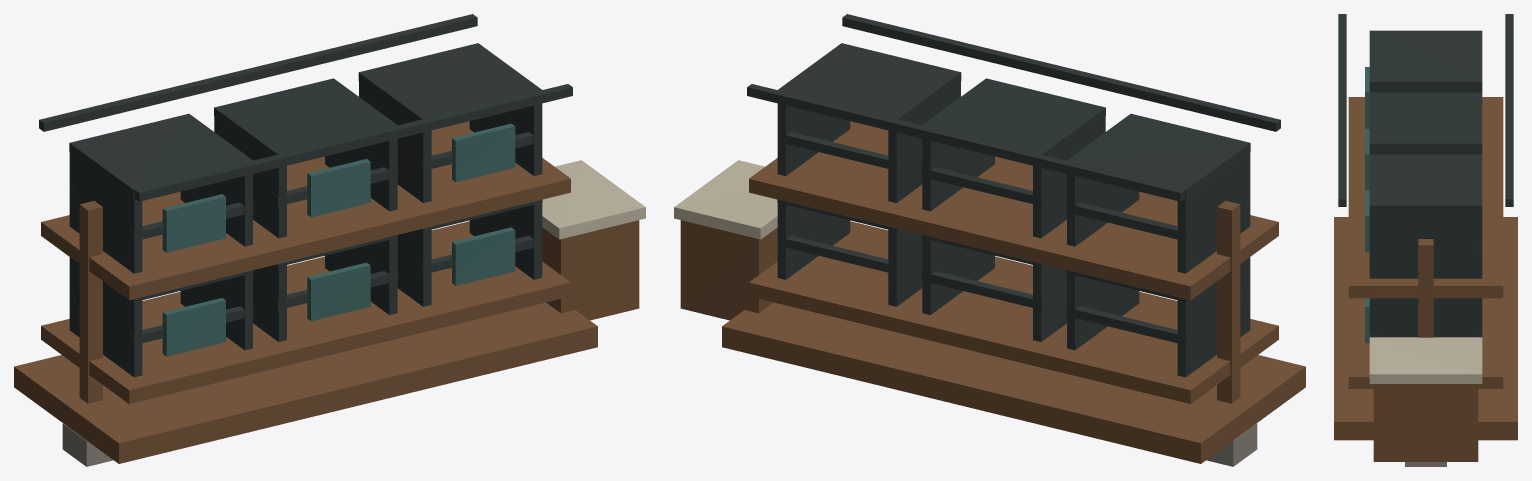
File: Crab-Pots.glb
3 views of the same model, side by side, from view 1: azimuth 30°, elevation 25°; view 2: azimuth 150°, elevation 25°; view 3: azimuth 270°, elevation 25° (orthographic). The views are drawn at different scales.
Visible parts, largest first — view 1: crab-pots-static-crab-pots-warm-timber-rack, crab-pots-static-crab-pots-charcoal-cage-rails, crab-pots-static-crab-pots-muted-teal-access-panels, crab-pots-static-crab-pots-cream-gear-box-lid, crab-pots-static-crab-pots-pale-stone-feet; view 2: crab-pots-static-crab-pots-warm-timber-rack, crab-pots-static-crab-pots-charcoal-cage-rails, crab-pots-static-crab-pots-cream-gear-box-lid, crab-pots-static-crab-pots-pale-stone-feet; view 3: crab-pots-static-crab-pots-charcoal-cage-rails, crab-pots-static-crab-pots-warm-timber-rack, crab-pots-static-crab-pots-cream-gear-box-lid, crab-pots-static-crab-pots-muted-teal-access-panels, crab-pots-static-crab-pots-pale-stone-feet.
Boxes of the visible parts, x1,y1,x2,y2 form: crab-pots-static-crab-pots-warm-timber-rack: (14, 121, 639, 463); crab-pots-static-crab-pots-charcoal-cage-rails: (39, 14, 572, 377); crab-pots-static-crab-pots-muted-teal-access-panels: (162, 123, 515, 356); crab-pots-static-crab-pots-cream-gear-box-lid: (542, 160, 645, 239); crab-pots-static-crab-pots-pale-stone-feet: (62, 423, 113, 466); crab-pots-static-crab-pots-warm-timber-rack: (680, 121, 1305, 463); crab-pots-static-crab-pots-charcoal-cage-rails: (747, 14, 1280, 377); crab-pots-static-crab-pots-cream-gear-box-lid: (674, 160, 777, 239); crab-pots-static-crab-pots-pale-stone-feet: (1206, 423, 1257, 466); crab-pots-static-crab-pots-charcoal-cage-rails: (1338, 14, 1513, 337); crab-pots-static-crab-pots-warm-timber-rack: (1334, 97, 1517, 461); crab-pots-static-crab-pots-cream-gear-box-lid: (1369, 337, 1482, 383); crab-pots-static-crab-pots-muted-teal-access-panels: (1365, 67, 1369, 343); crab-pots-static-crab-pots-pale-stone-feet: (1405, 462, 1446, 466).
Bounding box in the file's own units: 6.62 × 3.45 × 2.2.
